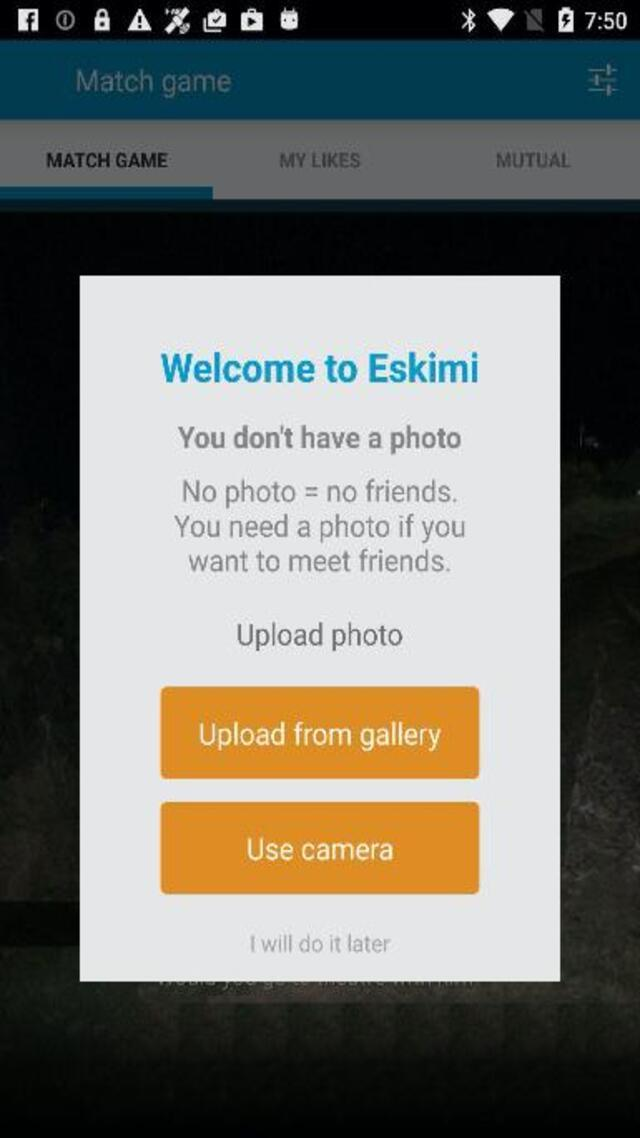Icon: (587, 64, 617, 96)
Text: (169, 510, 482, 545), (160, 350, 478, 382), (191, 716, 444, 754), (174, 476, 466, 506), (184, 546, 451, 578), (177, 424, 461, 454), (236, 620, 402, 652), (240, 833, 406, 865), (76, 68, 230, 98), (251, 932, 391, 953), (48, 153, 168, 167), (279, 153, 359, 167), (496, 153, 571, 167)
TextButton: (160, 686, 478, 779), (162, 802, 480, 894)
